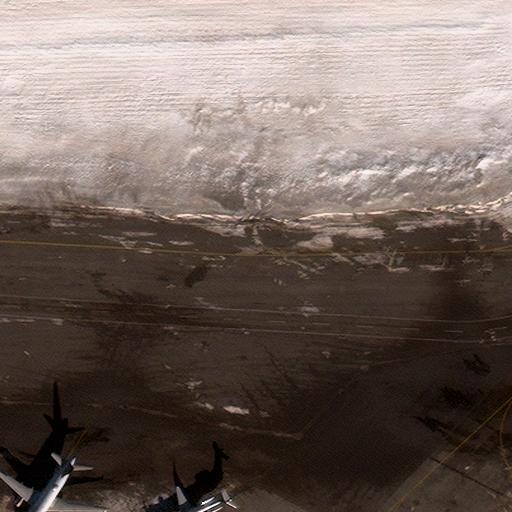Medium Civil Transport: (0, 456, 105, 511), (159, 487, 231, 511)
